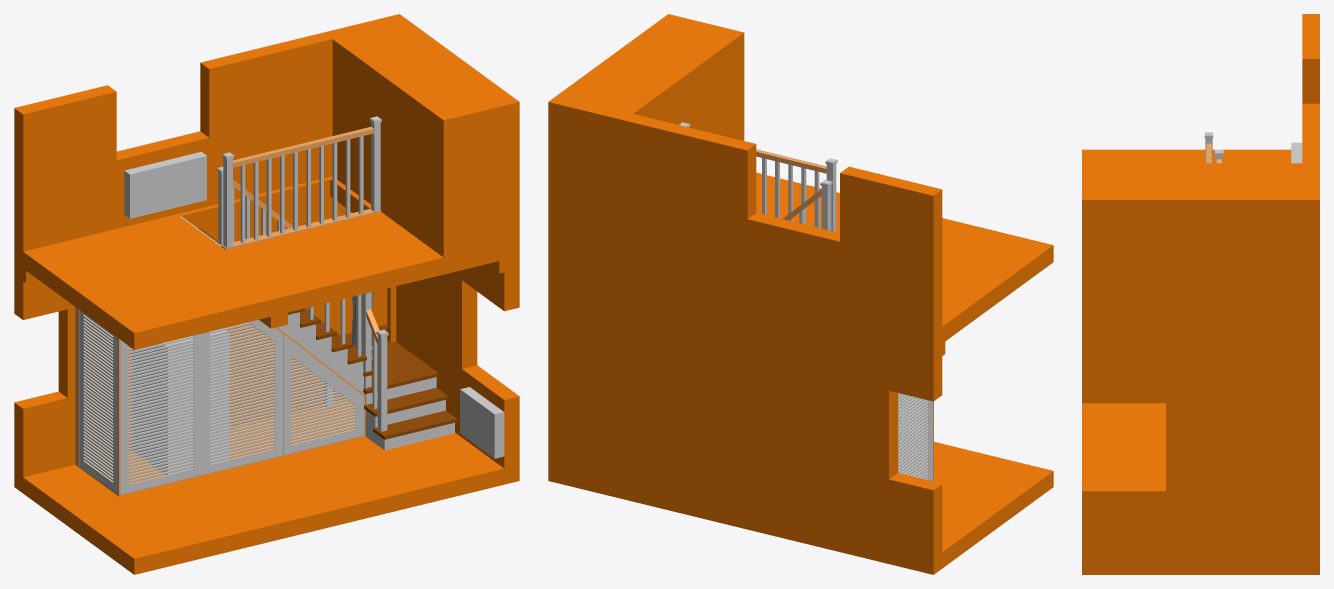
The model's file is Устройство лестницы на косоурах.obj.
The picture shows the model from 3 angles, left to right: view 1: azimuth 30°, elevation 25°; view 2: azimuth 150°, elevation 25°; view 3: azimuth 270°, elevation 25°; orthographic projection.
Bounding box in the file's own units: 5 × 4.7 × 2.7.
